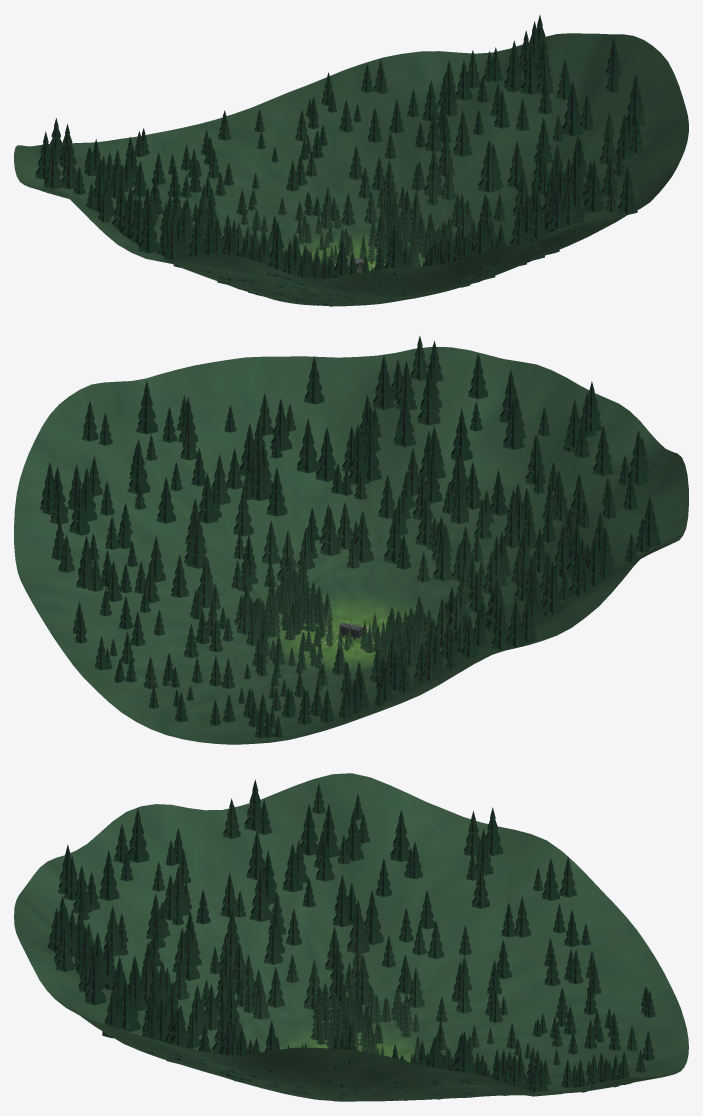
File: scena_antracit.glb
The picture shows the model from 3 angles, top to bottom: view 1: azimuth 30°, elevation 25°; view 2: azimuth 150°, elevation 25°; view 3: azimuth 270°, elevation 25°; orthographic projection.
Visible parts, largest first — view 1: Teren, Les_daleko, Les_blizko; view 2: Teren, Les_daleko, Les_blizko; view 3: Teren, Les_daleko, Les_blizko.
Boxes of the visible parts, <box> form: Teren: <box>14,33,688,306</box>; Les_daleko: <box>35,15,646,306</box>; Les_blizko: <box>251,196,454,270</box>; Teren: <box>14,346,688,744</box>; Les_daleko: <box>39,336,660,738</box>; Les_blizko: <box>252,554,447,674</box>; Teren: <box>14,773,688,1101</box>; Les_daleko: <box>47,779,655,1101</box>; Les_blizko: <box>310,982,448,1062</box>.
Size of the model in its own units: 176 by 51.67 by 176.
